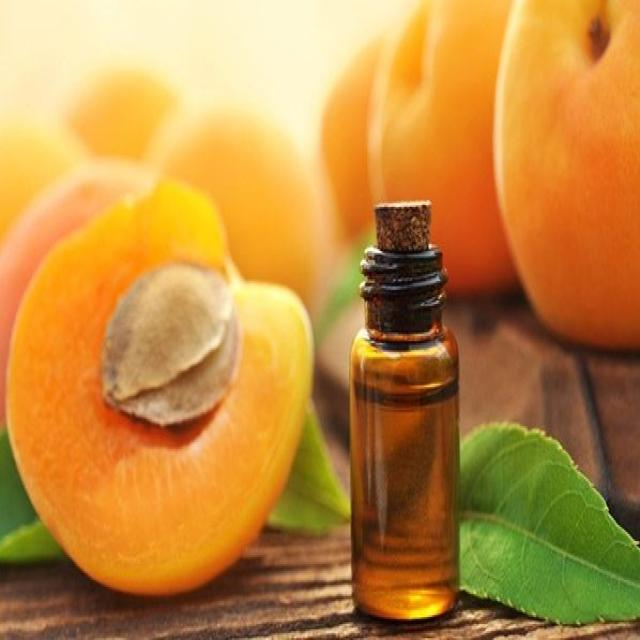kayisi cekirdegi: (83, 253, 261, 472)
yaprak: (468, 416, 640, 634)
